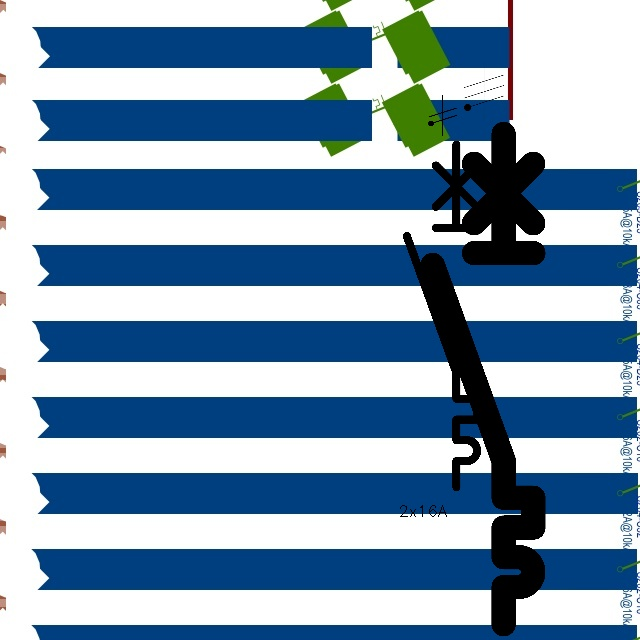interruptor_termomagnetico: (420, 121, 546, 637), (398, 135, 486, 495)
